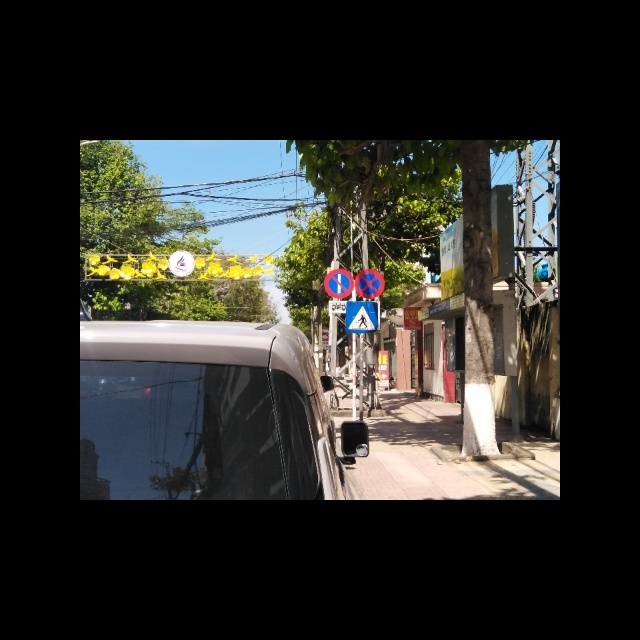Cấm dừng xe và đỗ xe: (354, 269, 386, 299)
Cấm đỗ xe ngày lẻ: (324, 269, 353, 299)
Đường dành cho người đi bộ: (346, 301, 378, 332)
